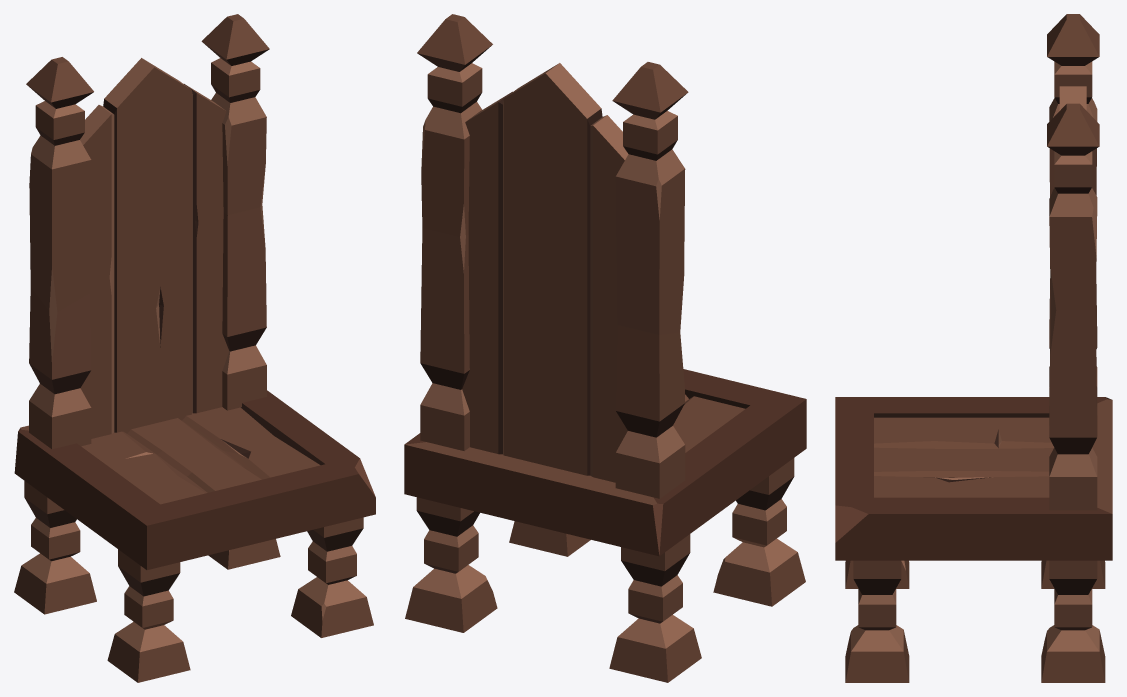
The model's file is WoodBigChair_01.glb.
3 renders of one model, left to right at view 1: azimuth 30°, elevation 25°; view 2: azimuth 150°, elevation 25°; view 3: azimuth 270°, elevation 25°, orthographic. The views are drawn at different scales.
Parts seen in each view (by area): view 1: WoodBigChair_01; view 2: WoodBigChair_01; view 3: WoodBigChair_01.
Boxes of the visible parts, x1=… form: WoodBigChair_01: x1=14, y1=14, x2=375, y2=682; WoodBigChair_01: x1=404, y1=14, x2=806, y2=682; WoodBigChair_01: x1=835, y1=14, x2=1112, y2=682.
Size of what is drawn, in the model's own units: 0.7268 by 1.57 by 0.705.
1 material, 1 textured.
